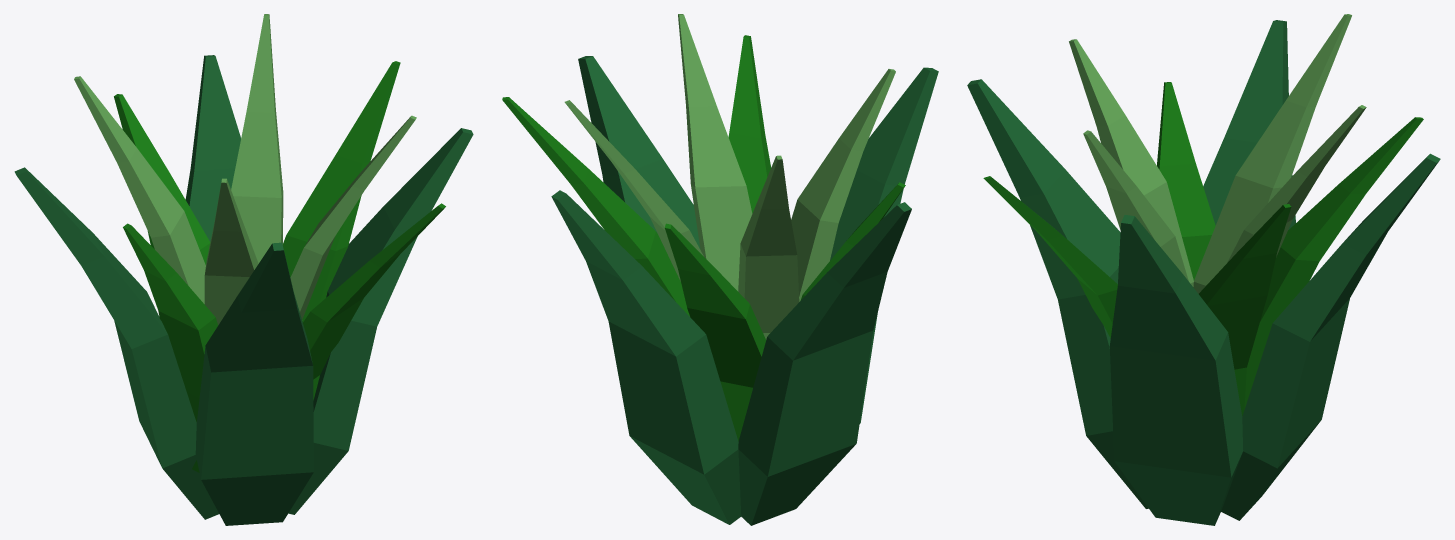
File: Grass.fbx
The picture shows the model from 3 angles, left to right: view 1: azimuth 30°, elevation 25°; view 2: azimuth 150°, elevation 25°; view 3: azimuth 270°, elevation 25°; orthographic projection. The views are drawn at different scales.
Parts seen in each view (by area): view 1: Cube.023; view 2: Cube.023; view 3: Cube.023.
Part boxes in pixels (<box>): Cube.023: <box>14,14,473,525</box>; Cube.023: <box>502,14,938,525</box>; Cube.023: <box>967,14,1440,525</box>.
Size of the model in its own units: 111 by 113 by 109.
